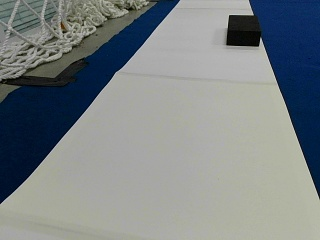block: (226, 15, 260, 46)
